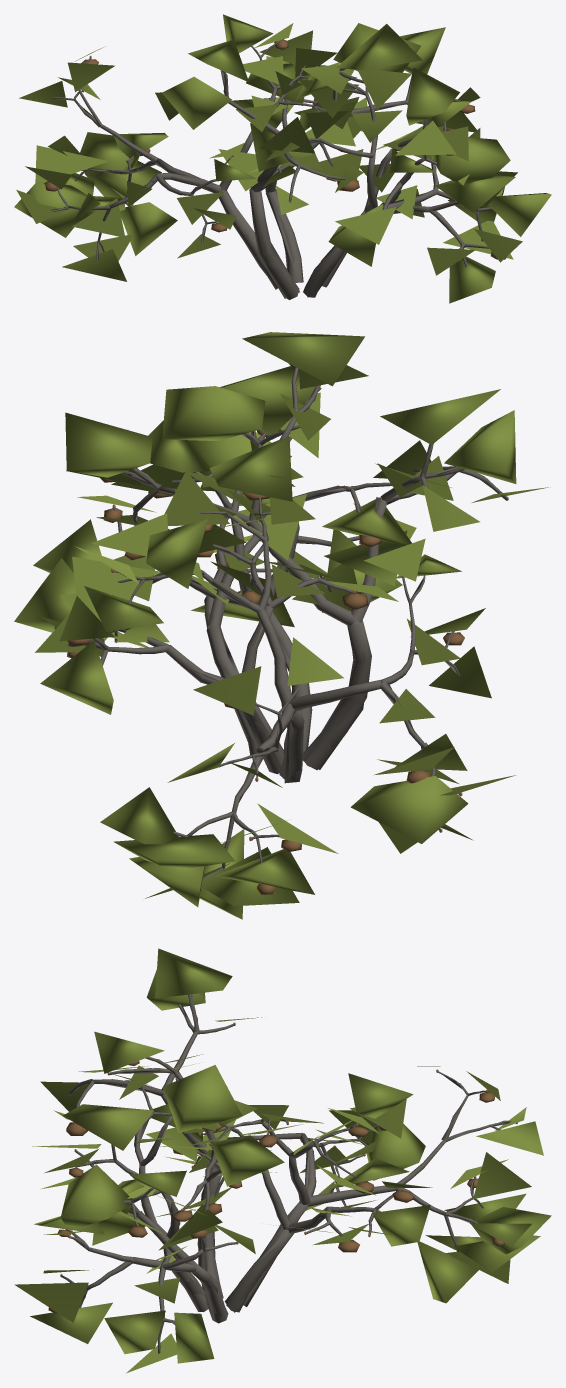
The model's file is scrub_oak_4.glb.
3 renders of one model, top to bottom at view 1: azimuth 30°, elevation 25°; view 2: azimuth 150°, elevation 25°; view 3: azimuth 270°, elevation 25°, orthographic. The views are drawn at different scales.
Parts seen in each view (by area): view 1: ScrubOak_LOD_Far_Foliage, ScrubOak_LOD_Far_Bark, ScrubOak_LimbWood_2, ScrubOak_LimbWood_3, ScrubOak_LimbWood_4, ScrubOak_LimbWood_1, ScrubOak_LimbWood_0; view 2: ScrubOak_LOD_Far_Foliage, ScrubOak_LimbWood_2, ScrubOak_LOD_Far_Bark, ScrubOak_LimbWood_3, ScrubOak_LimbWood_1, ScrubOak_LimbWood_4, ScrubOak_LimbWood_0; view 3: ScrubOak_LOD_Far_Foliage, ScrubOak_LOD_Far_Bark, ScrubOak_LimbWood_2, ScrubOak_LimbWood_3, ScrubOak_LimbWood_4, ScrubOak_LimbWood_1, ScrubOak_LimbWood_0.
Part boxes in pixels (x1,y1,x2,y2): ScrubOak_LOD_Far_Foliage: (14,14,551,303); ScrubOak_LOD_Far_Bark: (51,45,483,298); ScrubOak_LimbWood_2: (50,40,325,275); ScrubOak_LimbWood_3: (222,68,460,299); ScrubOak_LimbWood_4: (303,82,492,297); ScrubOak_LimbWood_1: (265,98,333,282); ScrubOak_LimbWood_0: (322,155,488,287); ScrubOak_LOD_Far_Foliage: (14,332,550,919); ScrubOak_LimbWood_2: (114,497,460,880); ScrubOak_LOD_Far_Bark: (82,379,490,873); ScrubOak_LimbWood_3: (123,367,507,770); ScrubOak_LimbWood_1: (68,544,353,774); ScrubOak_LimbWood_4: (113,425,391,752); ScrubOak_LimbWood_0: (204,437,359,754); ScrubOak_LOD_Far_Foliage: (14,948,551,1373); ScrubOak_LOD_Far_Bark: (69,994,509,1339); ScrubOak_LimbWood_2: (193,1071,511,1305); ScrubOak_LimbWood_3: (67,994,235,1298); ScrubOak_LimbWood_4: (76,1076,237,1353); ScrubOak_LimbWood_1: (198,1152,401,1312); ScrubOak_LimbWood_0: (60,1150,228,1323).
Size of what is drawn, in the model's own units: 4.78 by 3.2 by 4.86.
